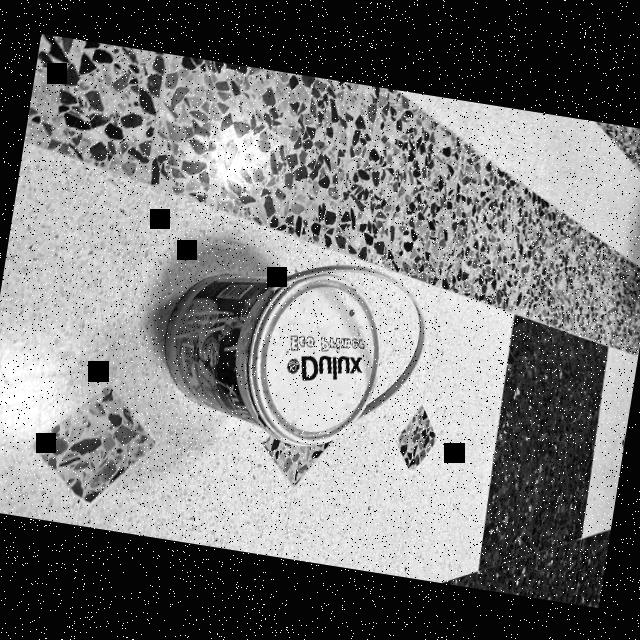paint_bucket: (144, 245, 394, 456)
